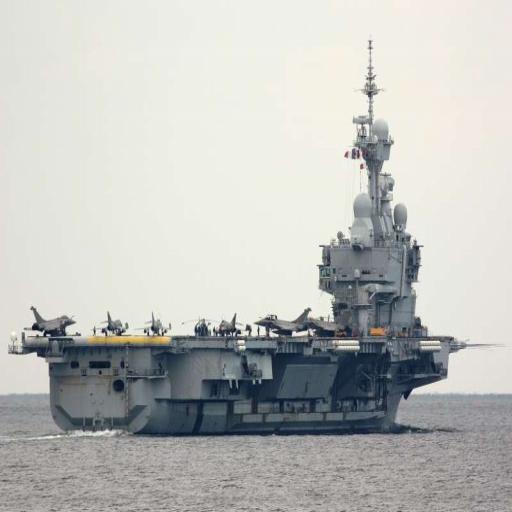Portanaves: (9, 32, 479, 442)
